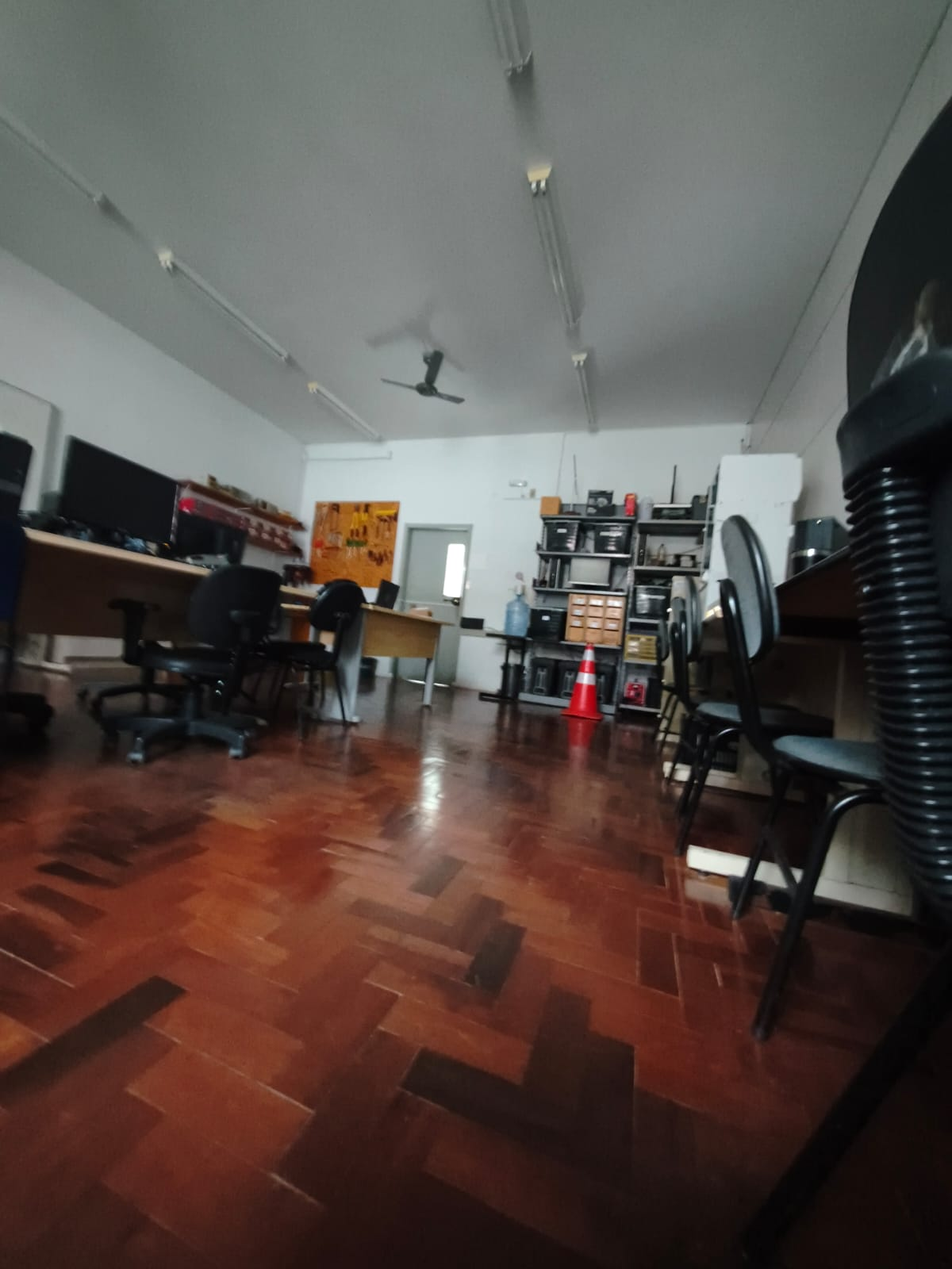cone: (561, 638, 605, 728)
